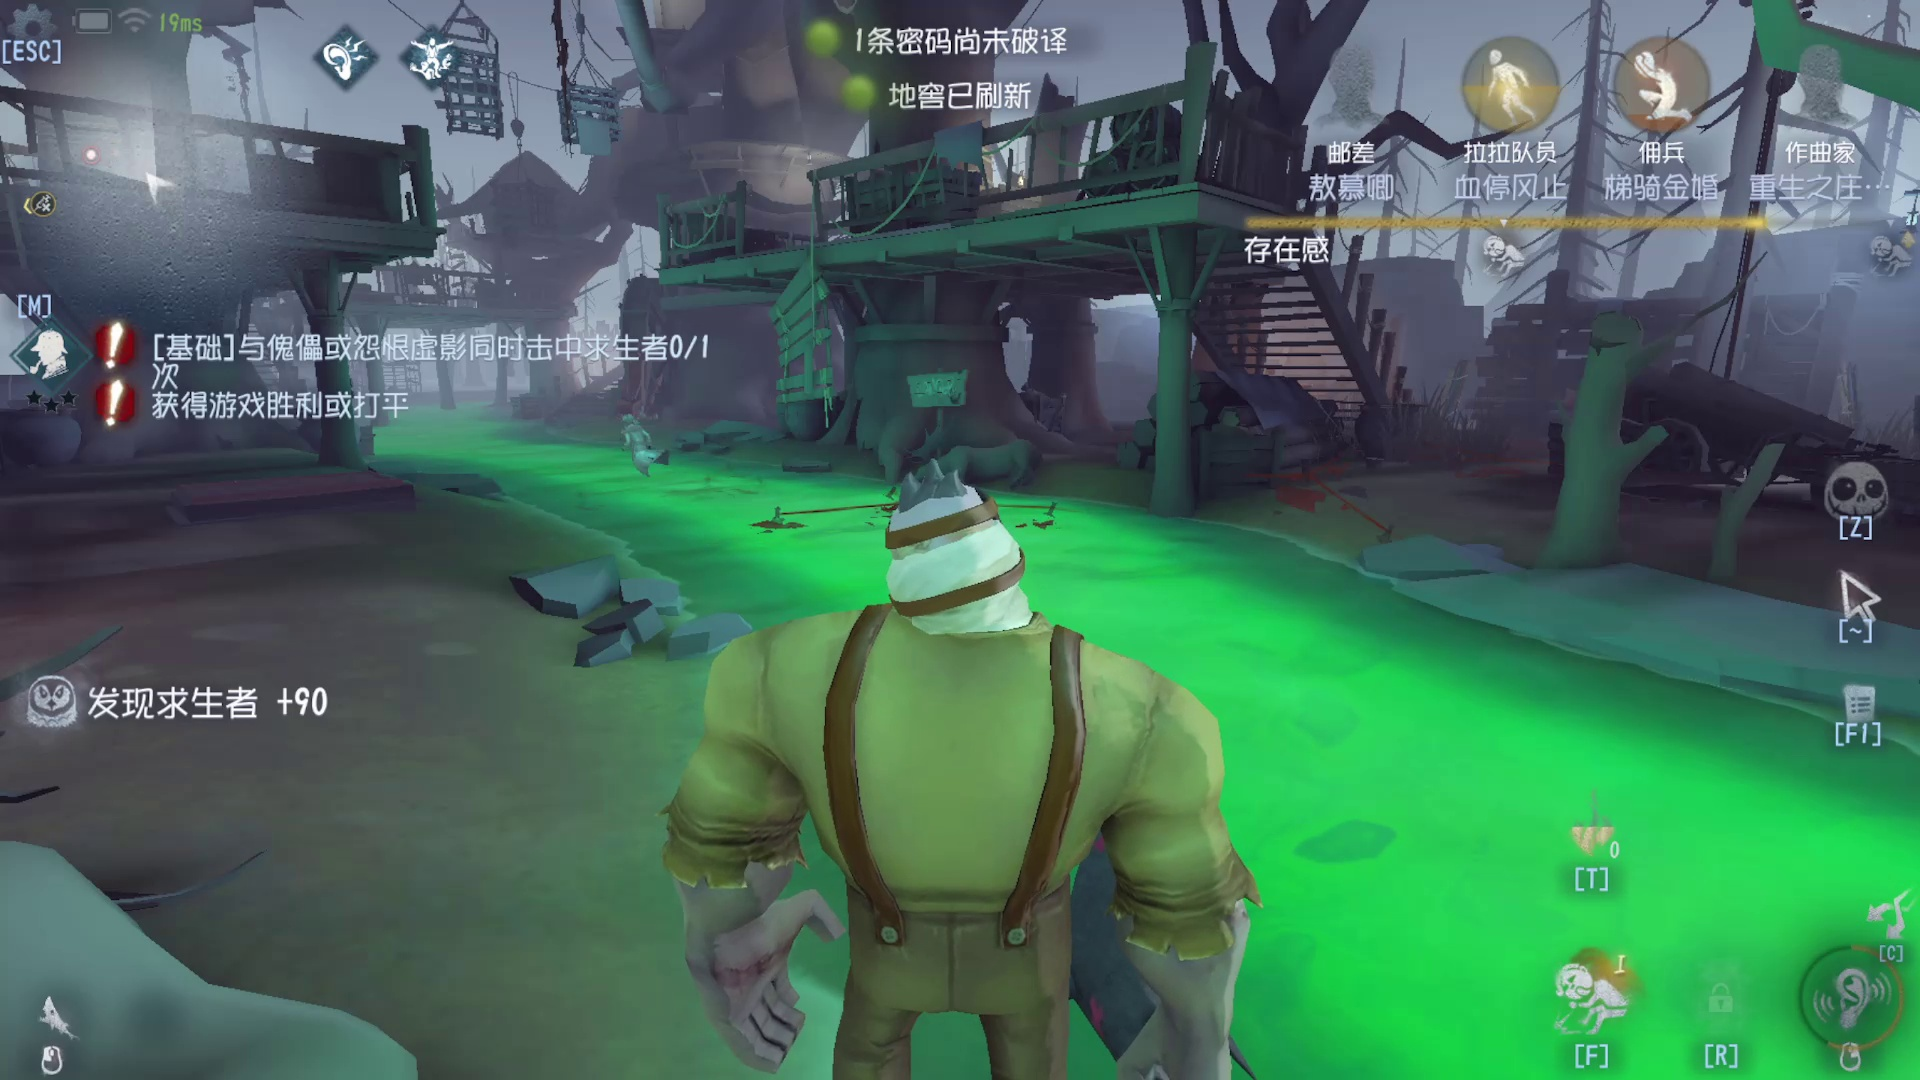求生者: (593, 397, 661, 477)
脚印: (1253, 451, 1396, 549)
